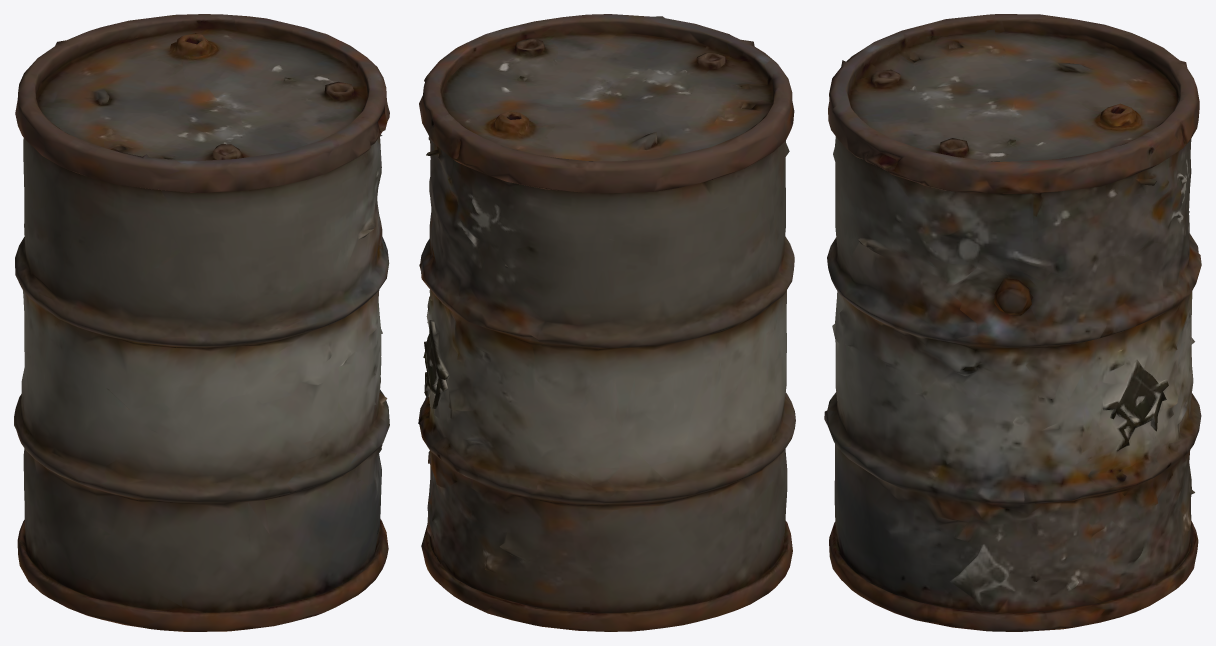
Rendered from barrel.glb.
3 renders of one model, left to right at view 1: azimuth 30°, elevation 25°; view 2: azimuth 150°, elevation 25°; view 3: azimuth 270°, elevation 25°, orthographic.
Visible parts, largest first — view 1: tripo_node_b65aa0f0-c972-4b95-ad8a-d62f650d6ea6; view 2: tripo_node_b65aa0f0-c972-4b95-ad8a-d62f650d6ea6; view 3: tripo_node_b65aa0f0-c972-4b95-ad8a-d62f650d6ea6.
Boxes of the visible parts, <box> form: tripo_node_b65aa0f0-c972-4b95-ad8a-d62f650d6ea6: <box>14,14,389,631</box>; tripo_node_b65aa0f0-c972-4b95-ad8a-d62f650d6ea6: <box>418,14,795,631</box>; tripo_node_b65aa0f0-c972-4b95-ad8a-d62f650d6ea6: <box>824,14,1201,631</box>.
Size of the model in its own units: 0.7451 by 1 by 0.7302.
1 material, 1 textured.
